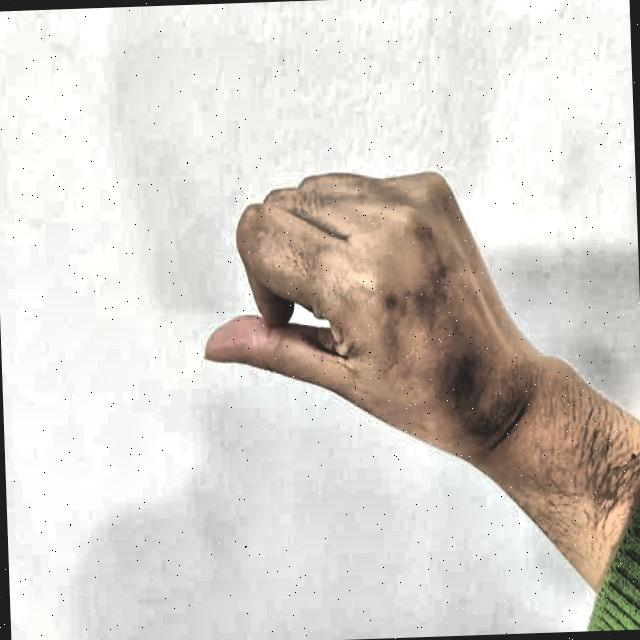Ay: (177, 115, 498, 522)
